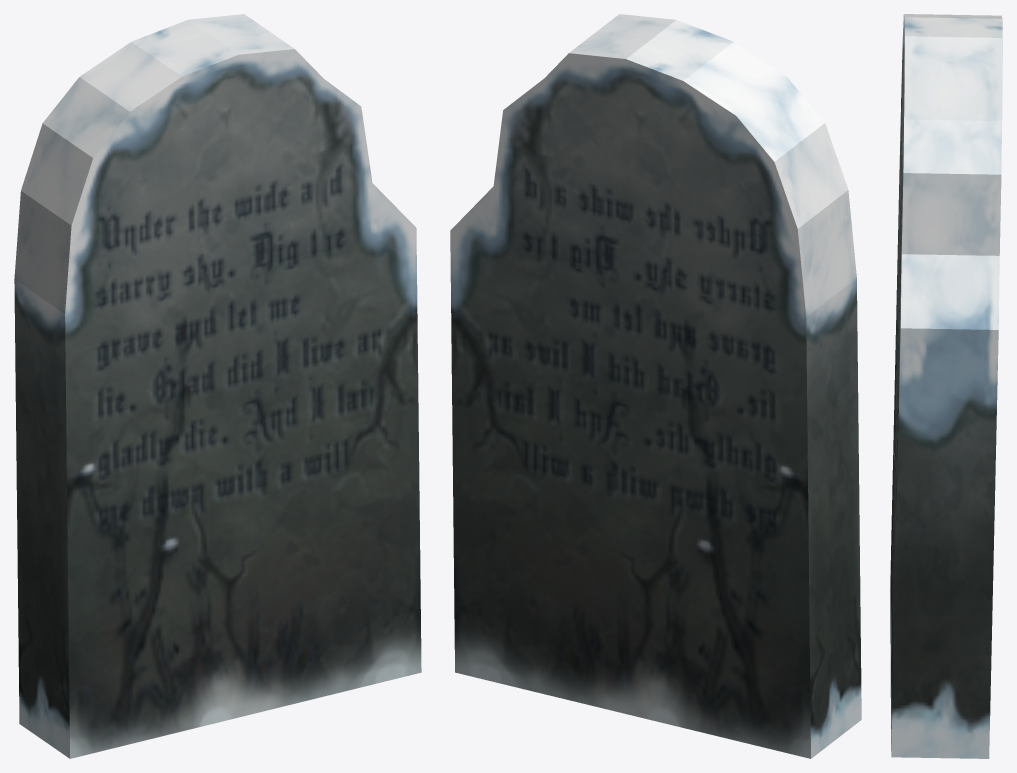
File: 3-1_mubei2.FBX
3 renders of one model, left to right at view 1: azimuth 30°, elevation 25°; view 2: azimuth 150°, elevation 25°; view 3: azimuth 270°, elevation 25°, orthographic. The views are drawn at different scales.
Visible parts, largest first — view 1: 3-1_mubei2; view 2: 3-1_mubei2; view 3: 3-1_mubei2.
Part boxes in pixels (x1,y1,x2,y2): 3-1_mubei2: (14,14,421,758); 3-1_mubei2: (450,14,861,758); 3-1_mubei2: (890,14,1002,758).
Bounding box in the file's own units: 97.21 × 173 × 27.69.
